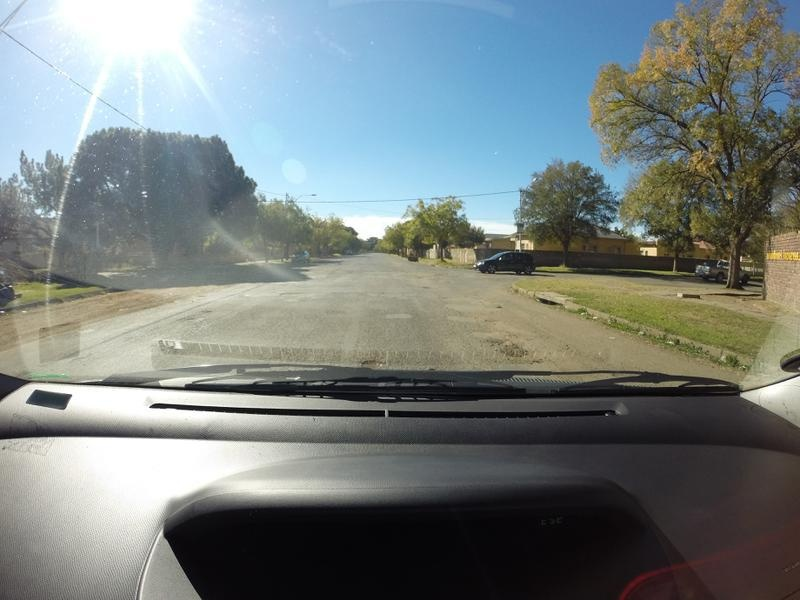pothole: (463, 334, 546, 369), (169, 304, 213, 326), (354, 345, 388, 371)
